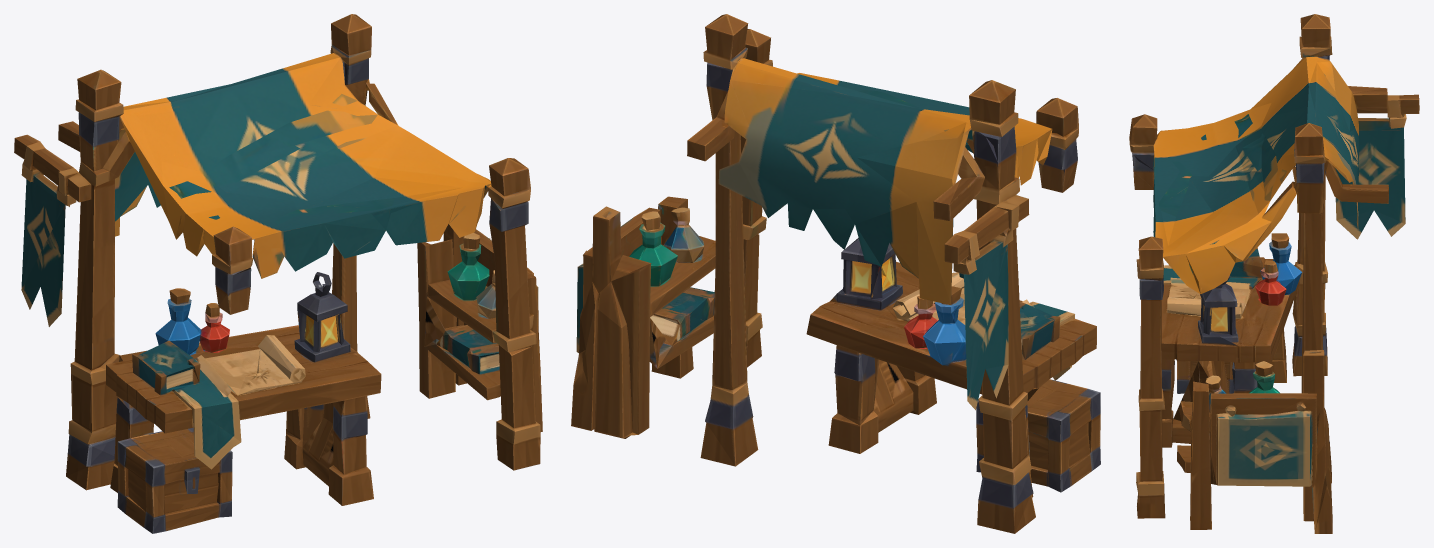
The model's file is fantasy-camp-awning.glb.
The picture shows the model from 3 angles, left to right: view 1: azimuth 30°, elevation 25°; view 2: azimuth 150°, elevation 25°; view 3: azimuth 270°, elevation 25°; orthographic projection. The views are drawn at different scales.
Parts seen in each view (by area): view 1: output_unwrapped; view 2: output_unwrapped; view 3: output_unwrapped.
Part boxes in pixels (box(x1,y1,x2,y2)): output_unwrapped: box(14, 14, 542, 533); output_unwrapped: box(571, 14, 1100, 533); output_unwrapped: box(1129, 14, 1419, 533).
Size of the model in its own units: 1.9 by 1.77 by 1.3.
1 material, 1 textured.
